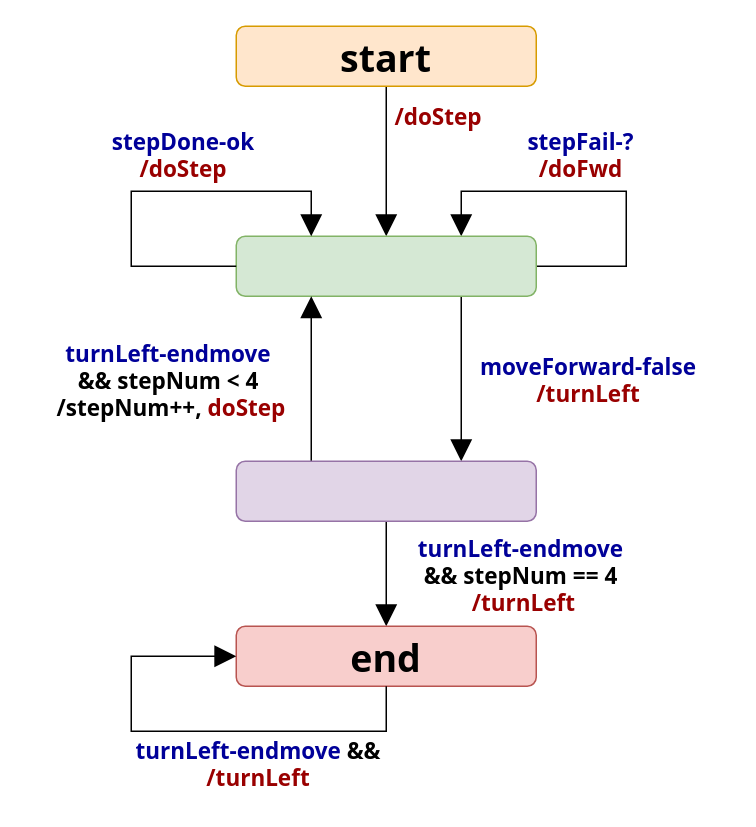
The diagram is 756 pixels wide and 827 high, and some of its shapes have lost their labels. Here are the shapes that lost their labels. From the top down, the centre of each, then its label:
[385,265]: walking
[385,490]: obstacle
